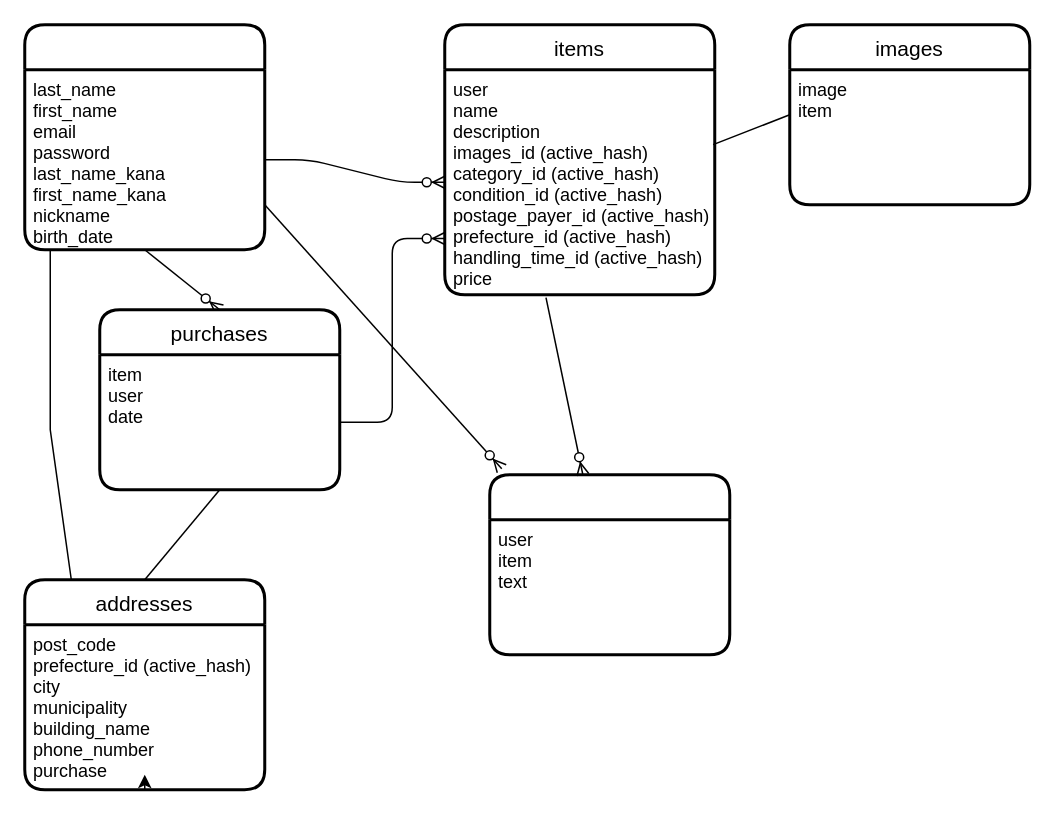
Some shapes in this 1055 by 815 pixel diagram are drawn without their labels. Here are the shapes that lost their labels. From the top down, the box of each, then its label:
(22, 22, 266, 250): users
(488, 472, 730, 656): comments
